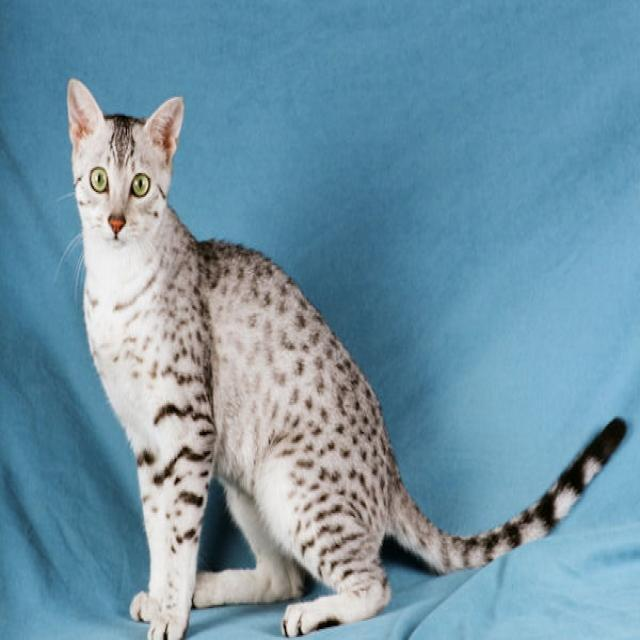Egyptian_Mau: (55, 72, 188, 262)
